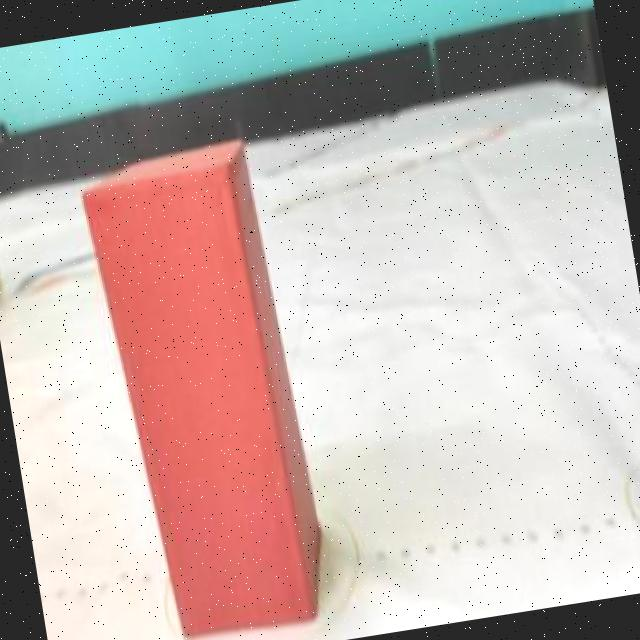redbox: (79, 138, 326, 640)
